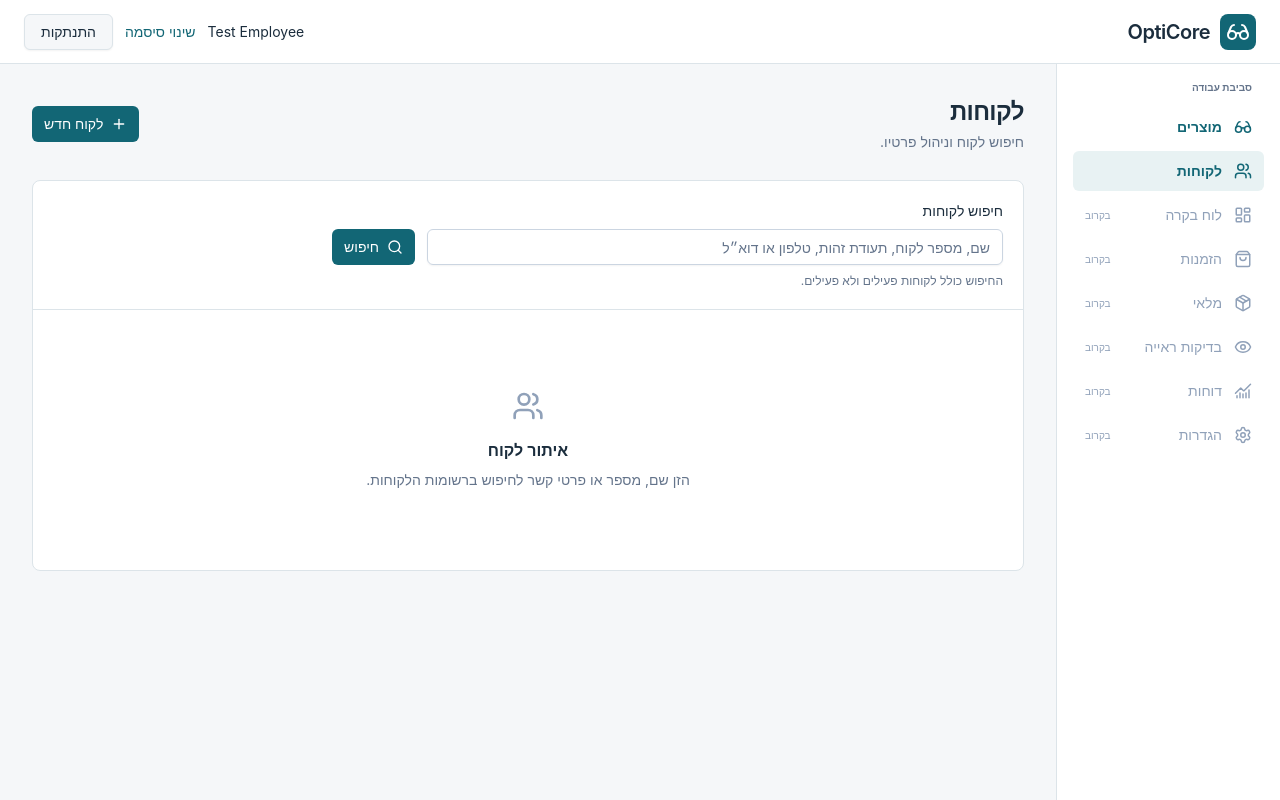
customer workflows › renders all mocked matches including shared-phone and inactive rows
Type "0501234567" into the field labelled "חיפוש לקוחות" at point(715, 247), box [427, 229, 1003, 265]
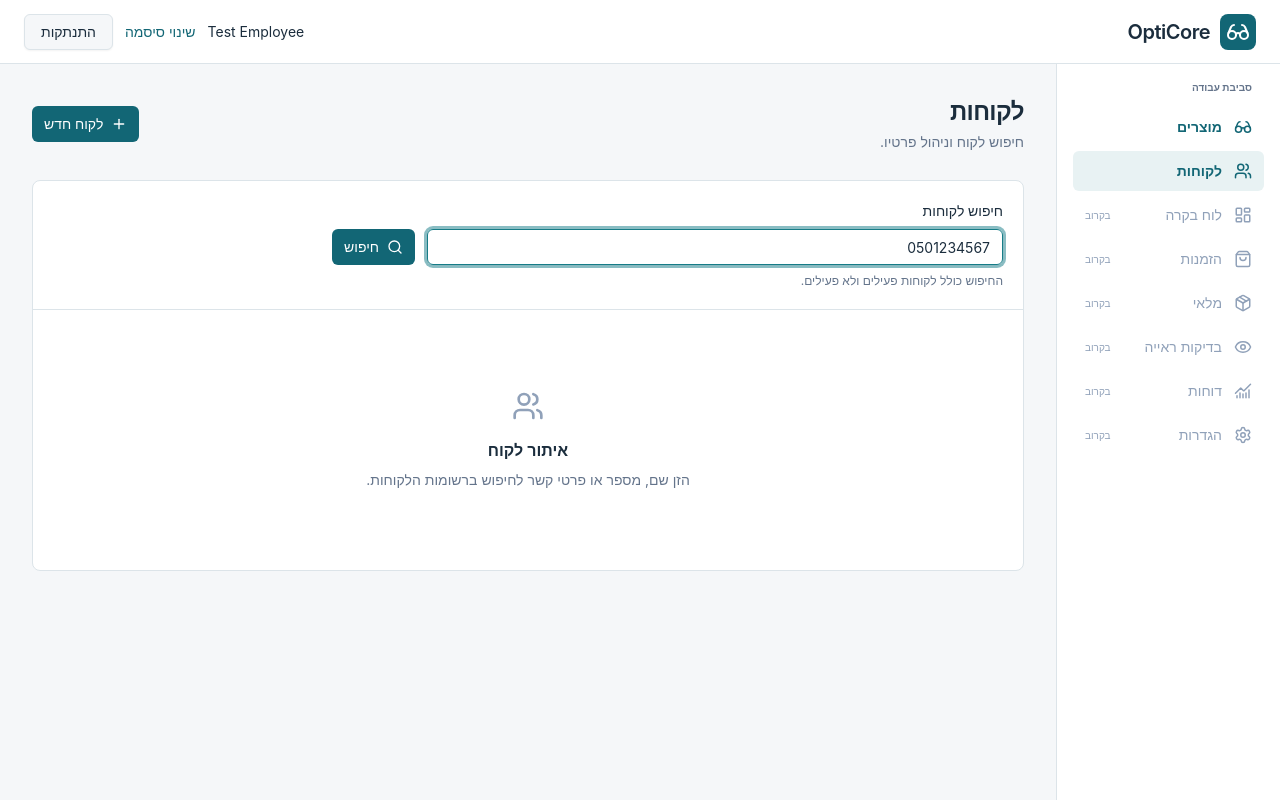
Click the button "חיפוש" at point(374, 247), box [332, 229, 415, 265]
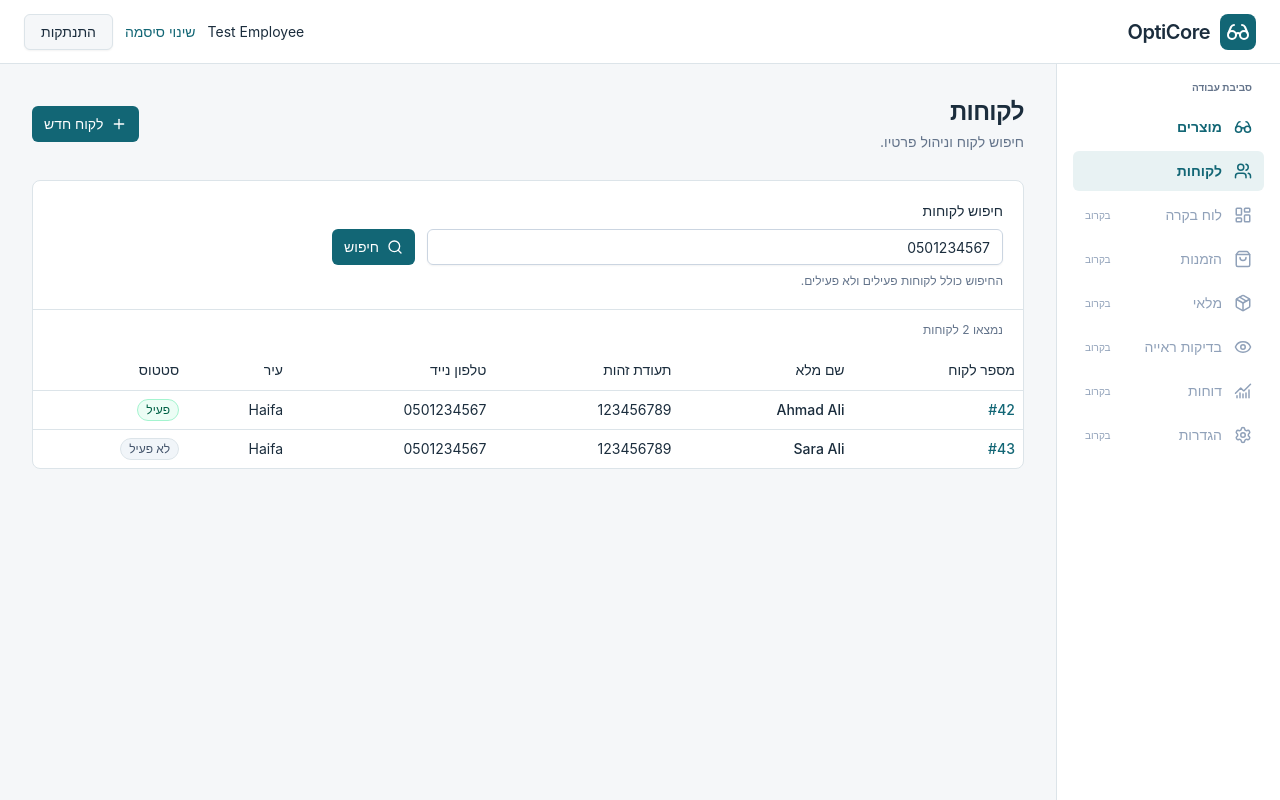
Now the text "Ahmad Ali" is shown, box [680, 390, 853, 429]
Now the text "Sara Ali" is shown, box [680, 429, 853, 468]
Now the text "לא פעיל" is shown, box [120, 438, 179, 460]
